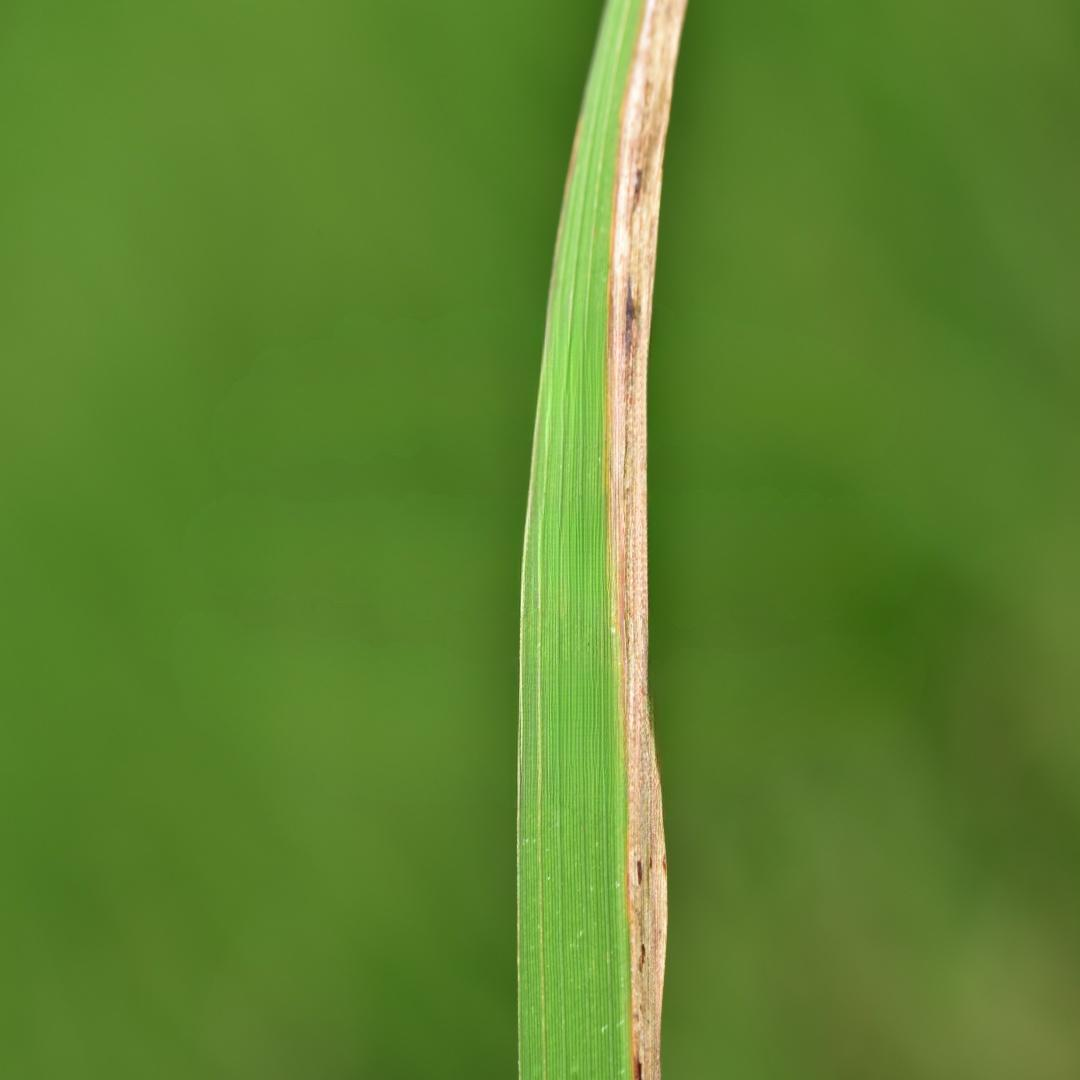BLB: (606, 0, 687, 1079)
